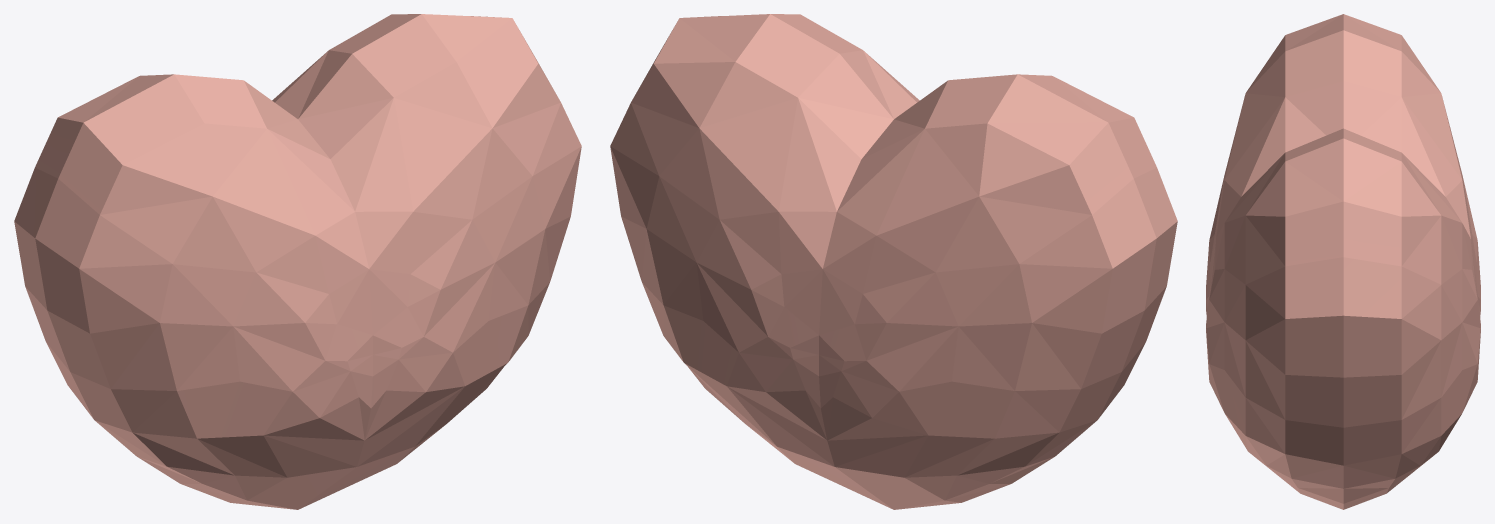
Rendered from heart.glb.
3 renders of one model, left to right at view 1: azimuth 30°, elevation 25°; view 2: azimuth 150°, elevation 25°; view 3: azimuth 270°, elevation 25°, orthographic. The views are drawn at different scales.
Visible parts, largest first — view 1: Heart; view 2: Heart; view 3: Heart.
Boxes of the visible parts, <box> form: Heart: <box>14,14,581,509</box>; Heart: <box>610,14,1177,509</box>; Heart: <box>1206,14,1480,509</box>.
Size of the model in its own units: 1 by 0.8497 by 0.5071.
